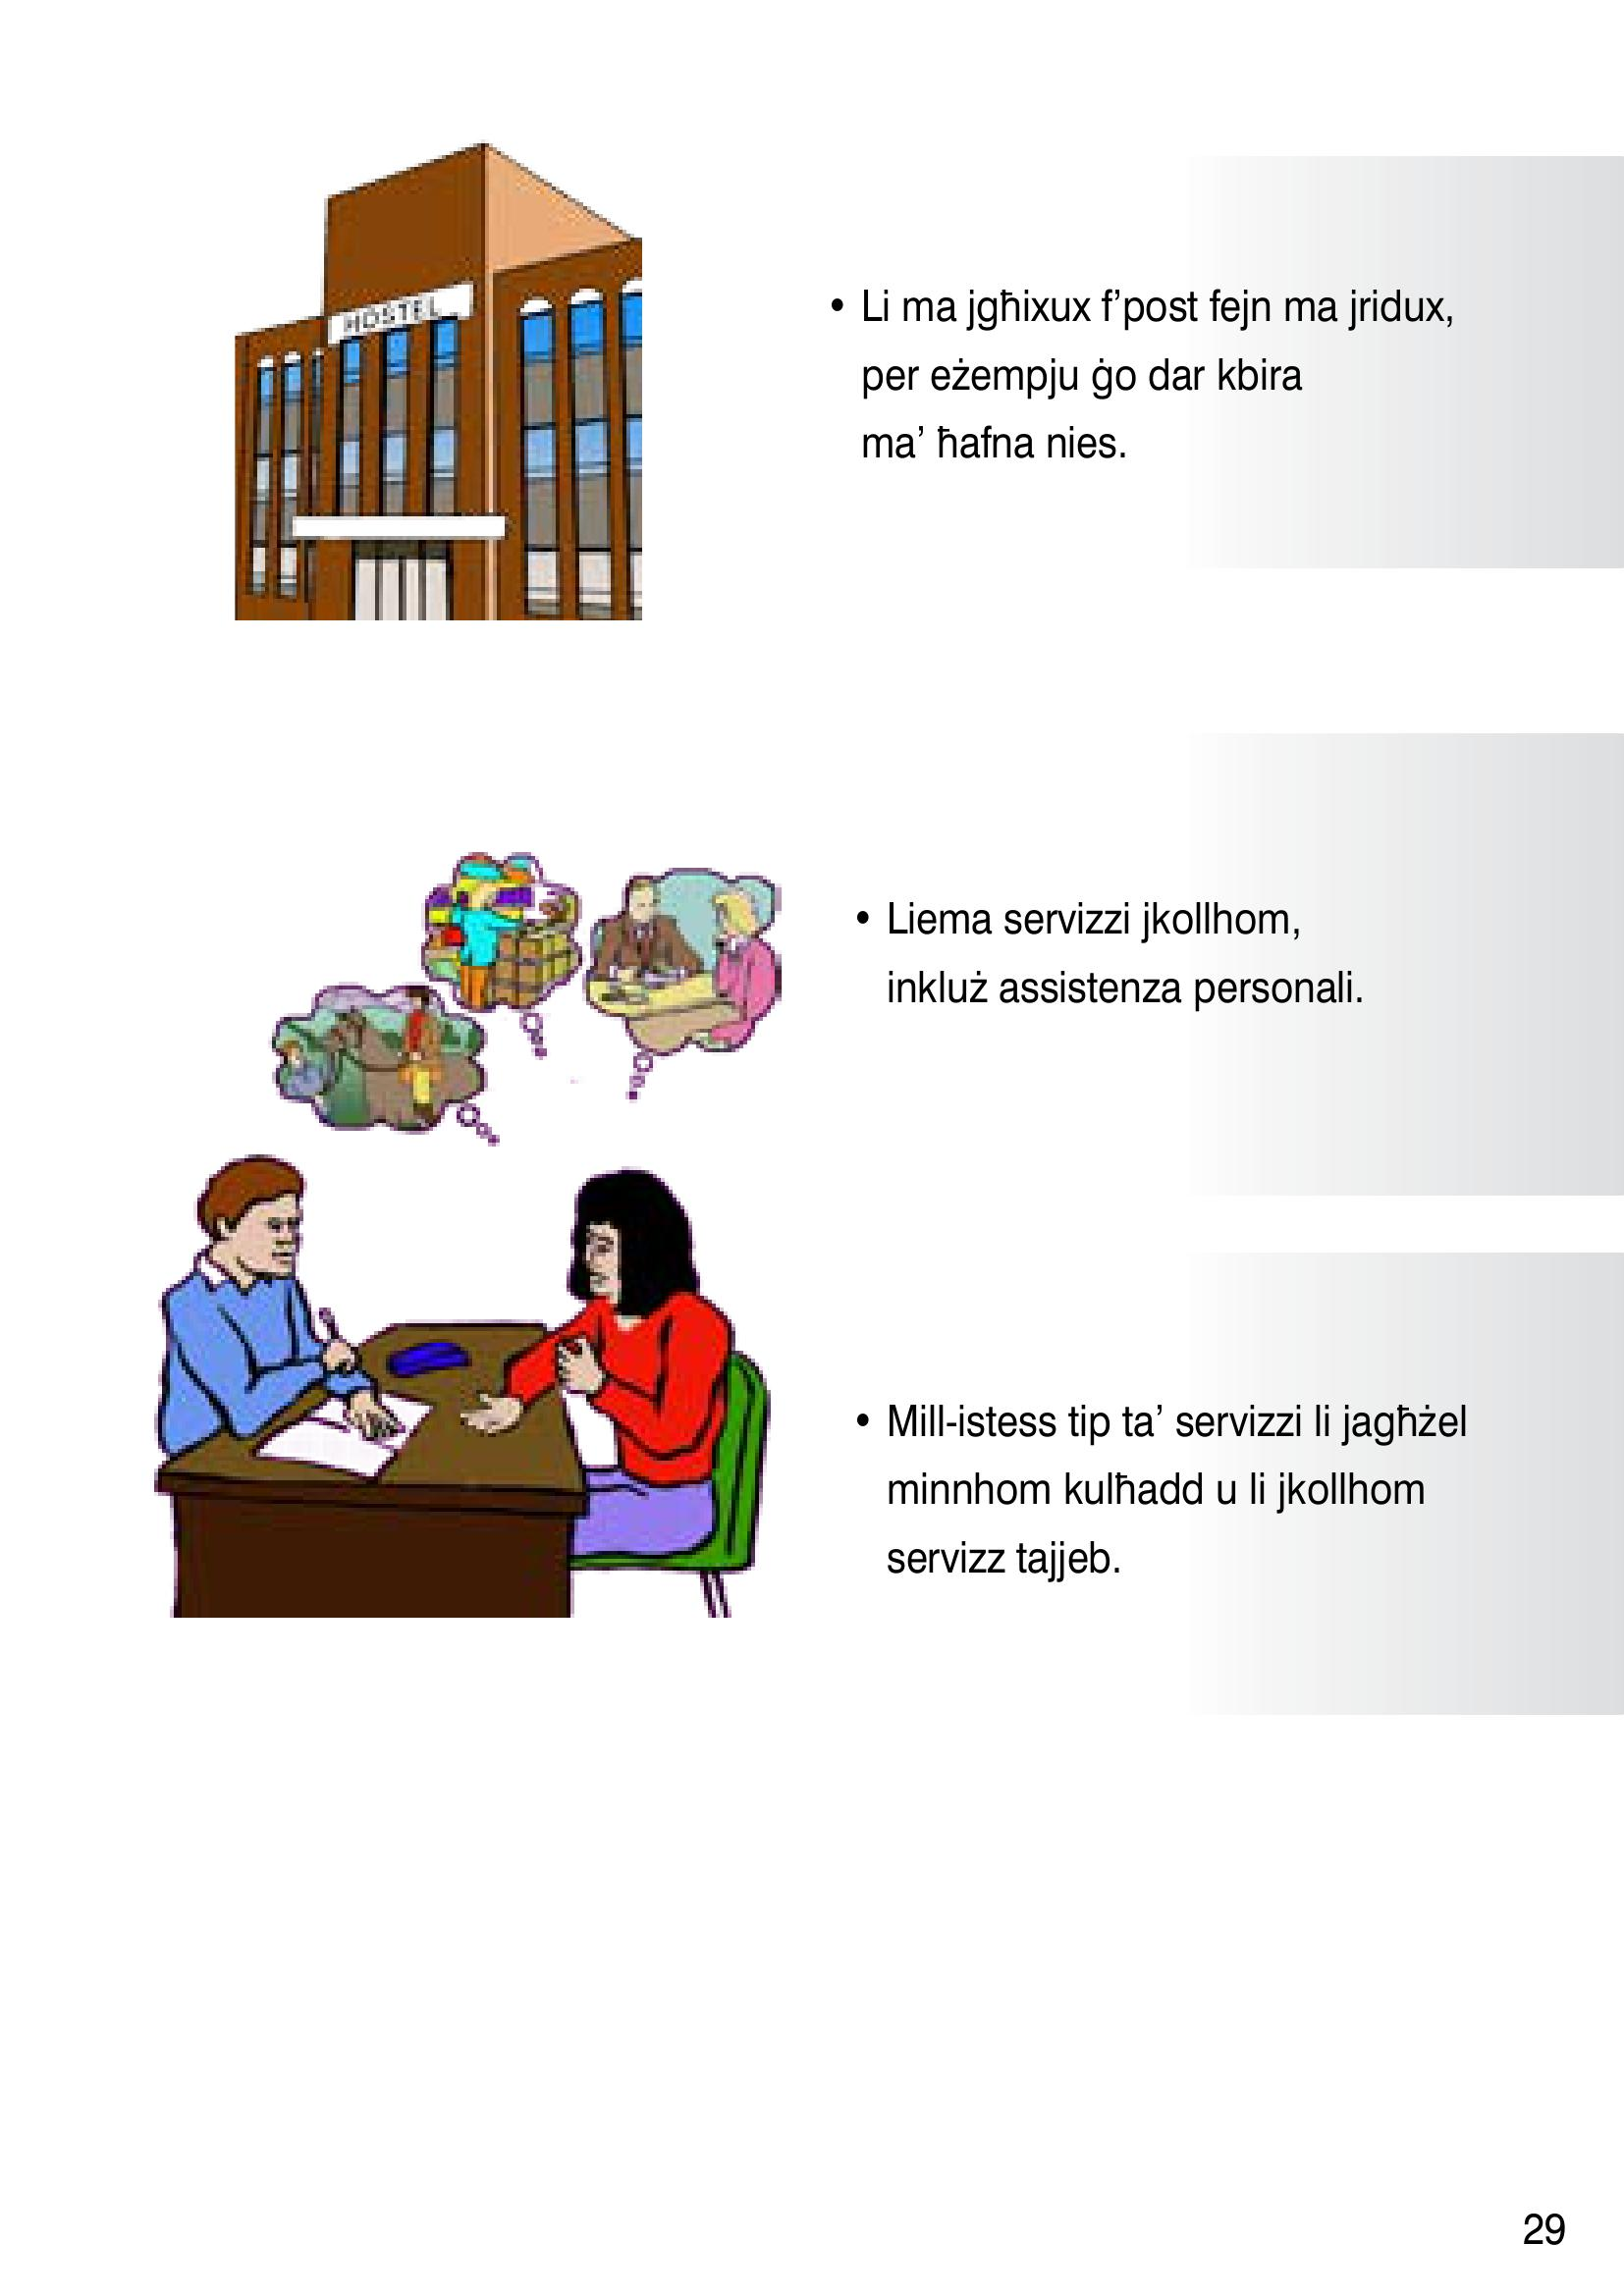text: (803, 242, 1526, 1651)
